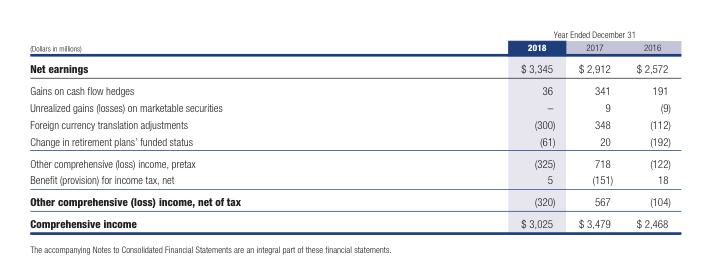table: (29, 29, 669, 229)
table column: (29, 29, 380, 229), (380, 29, 566, 229), (566, 29, 623, 229), (623, 29, 669, 229)
table column header: (29, 29, 669, 57)
table row: (29, 57, 669, 79), (29, 190, 669, 212), (29, 151, 669, 171), (29, 79, 669, 98), (29, 132, 669, 151), (29, 171, 669, 190), (29, 40, 669, 57), (29, 98, 669, 115), (29, 115, 669, 132), (29, 212, 669, 229), (29, 29, 669, 40)
table spanning cell: (29, 29, 380, 57), (380, 29, 669, 40)
